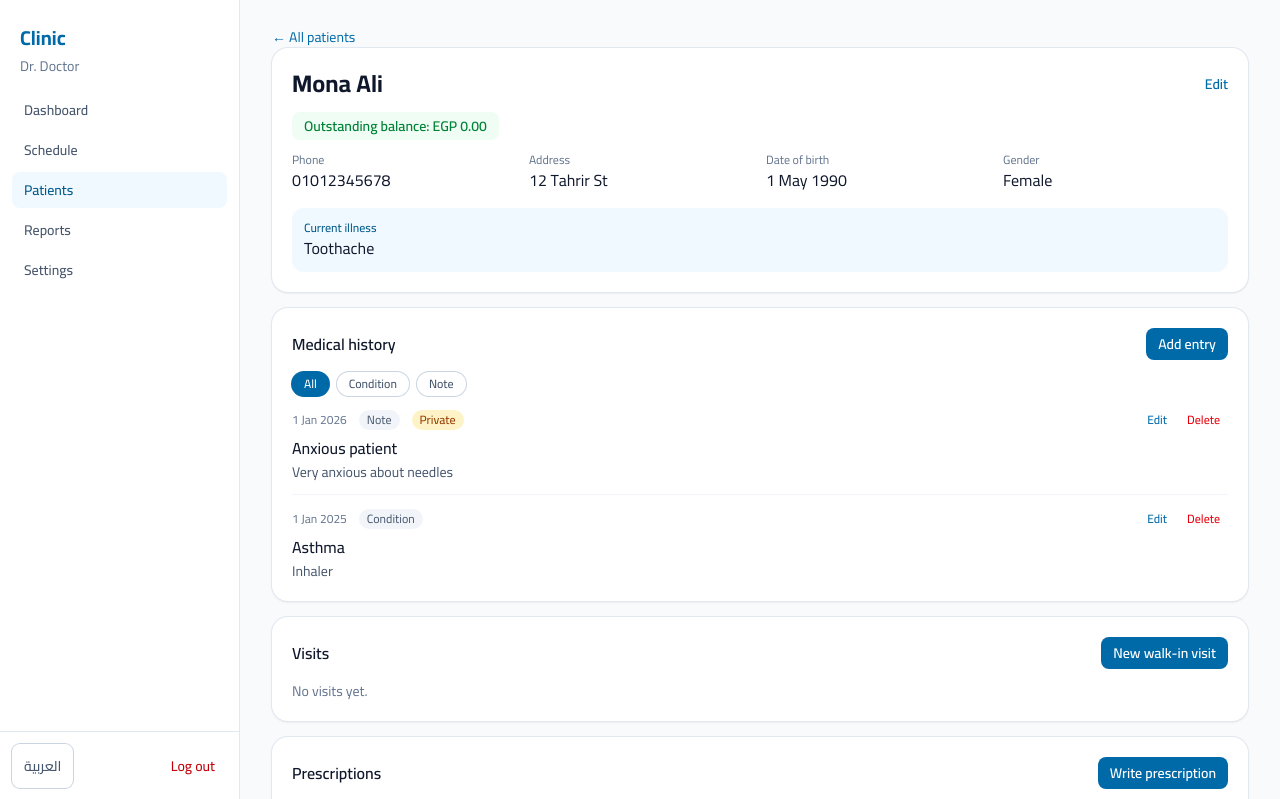
Scenario: PatientDetails › deletes an entry after confirmation
What coordinates should you click on to do the following:
click the button with aria-label "Delete Asthma"
I would click on:
 (1204, 519)
Its box is x1=1179 y1=507 x2=1228 y2=531.
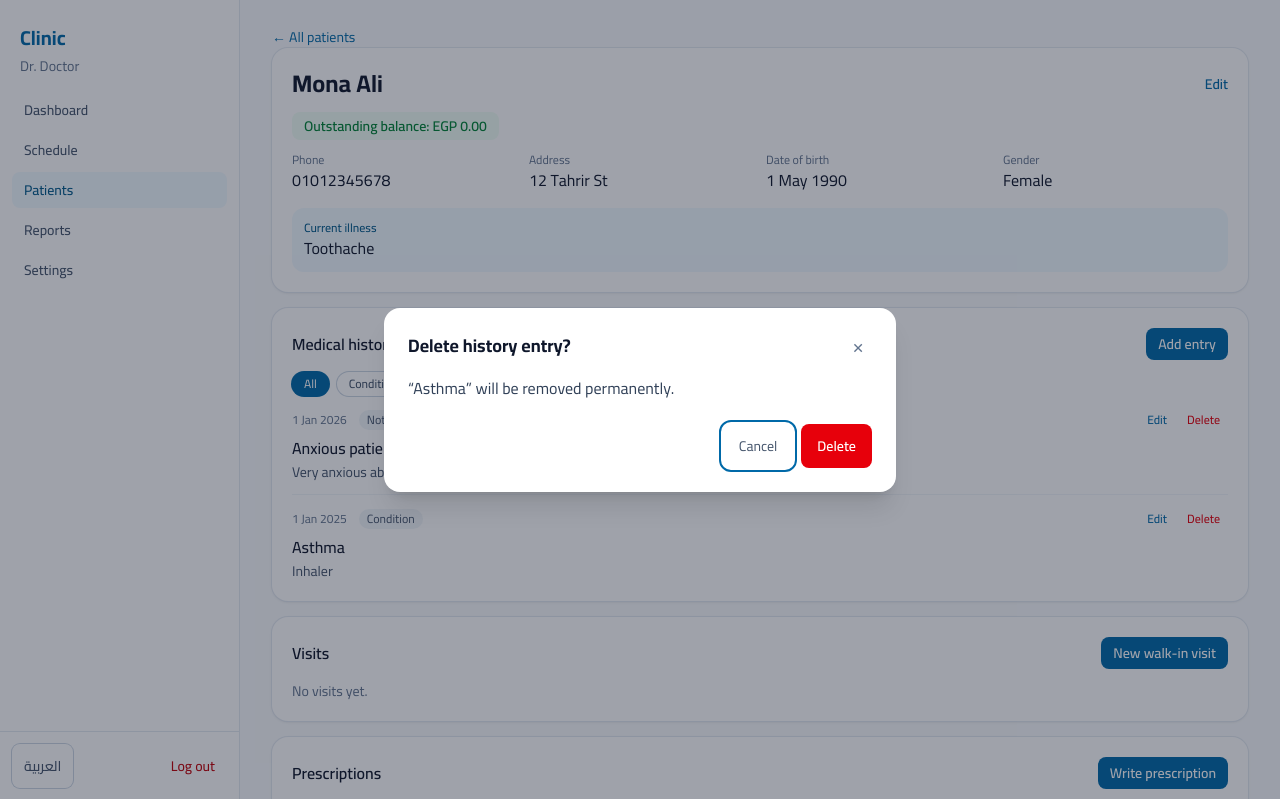
Expected: the dialog "Delete history entry?" shows "“Asthma” will be removed permanently.", x1=408 y1=373 x2=674 y2=403
What coordinates should you click on to do the following:
click the button "Delete"
I would click on:
 (837, 446)
Its box is x1=801 y1=424 x2=872 y2=468.
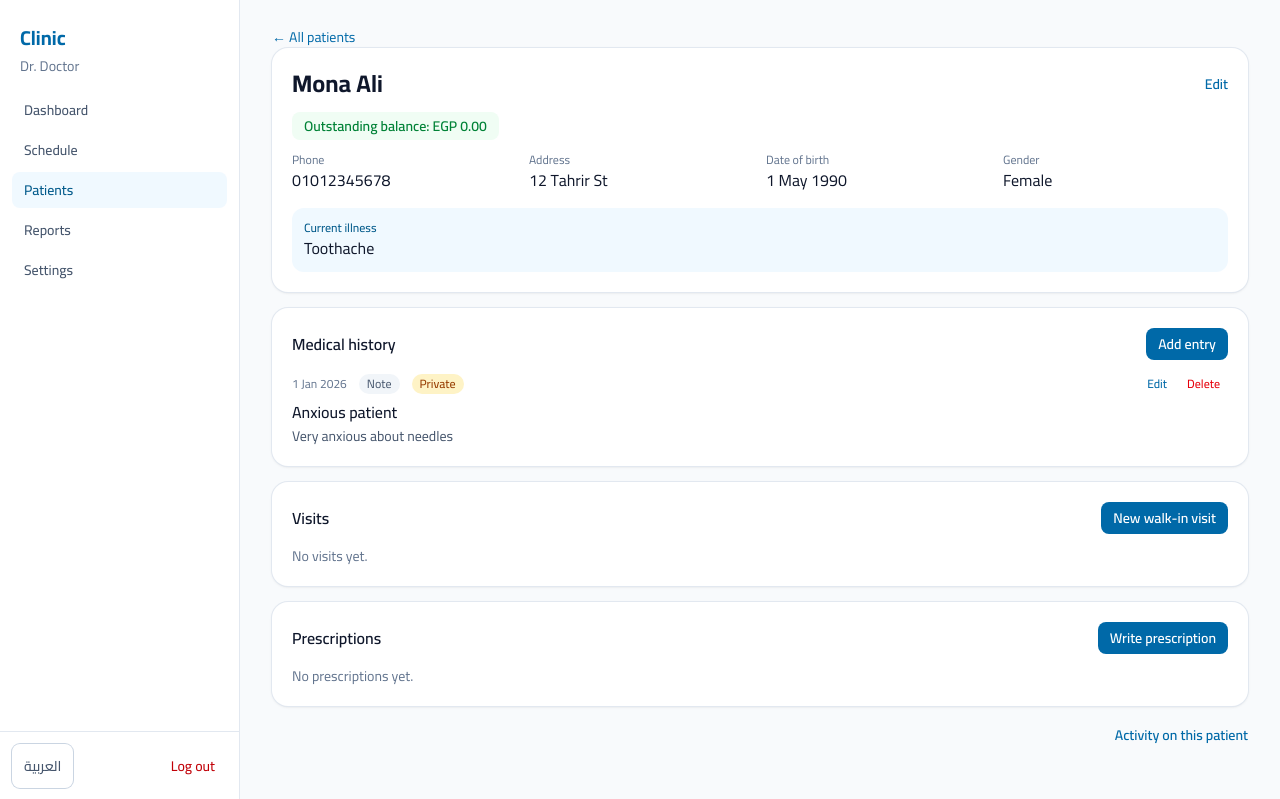
Expected: the text "Asthma" is gone
